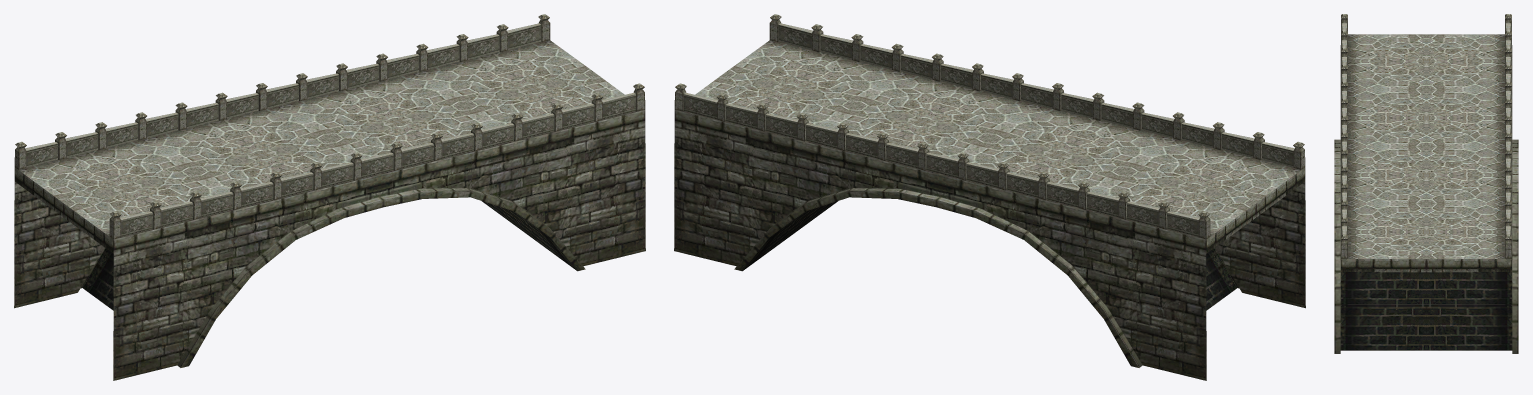
The model's file is a1-022-10m-bridge.fbx.
The picture shows the model from 3 angles, left to right: view 1: azimuth 30°, elevation 25°; view 2: azimuth 150°, elevation 25°; view 3: azimuth 270°, elevation 25°; orthographic projection. The views are drawn at different scales.
Visible parts, largest first — view 1: a1-022-10m-bridge; view 2: a1-022-10m-bridge; view 3: a1-022-10m-bridge.
Boxes of the visible parts, left/top/right/bottom form: a1-022-10m-bridge: left=14, top=14, right=645, bottom=380; a1-022-10m-bridge: left=674, top=14, right=1305, bottom=380; a1-022-10m-bridge: left=1334, top=14, right=1518, bottom=353.
Size of the model in its own units: 39.46 by 11.76 by 13.69.
